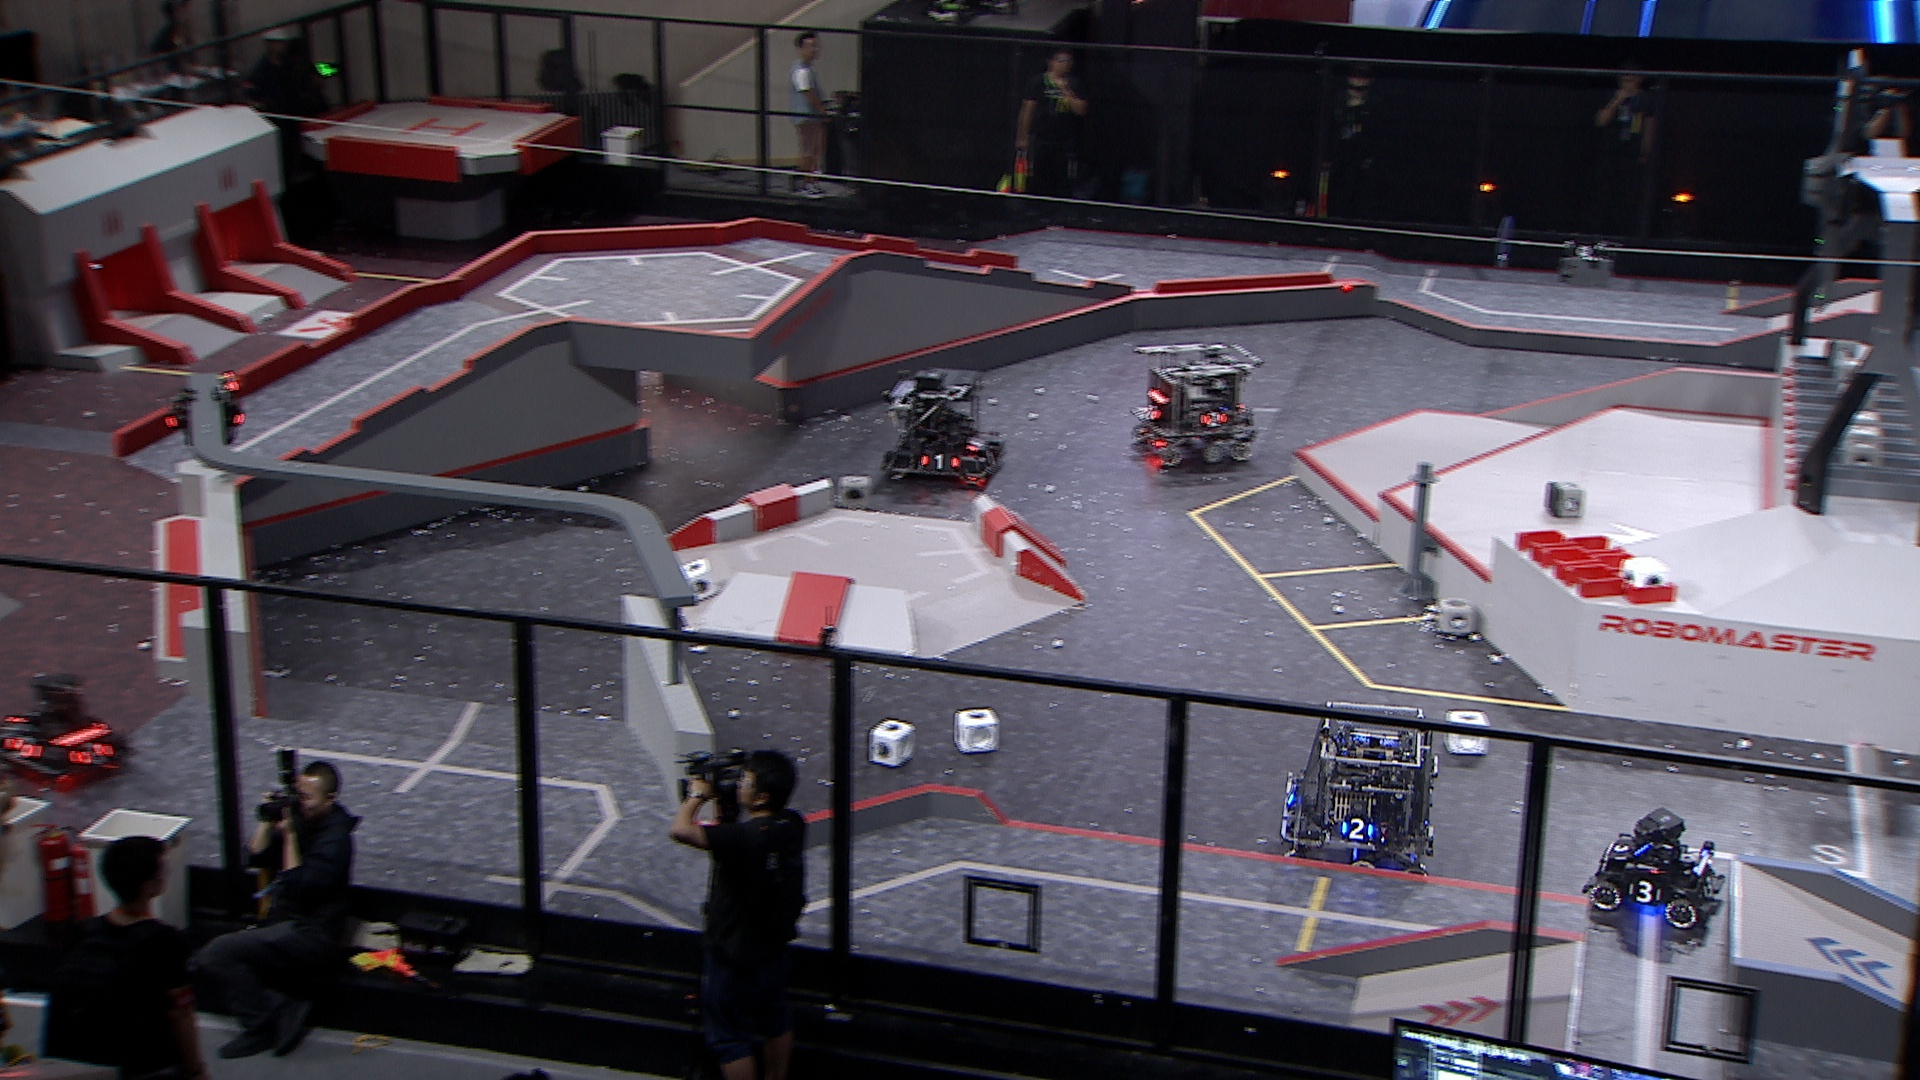armor: (67, 741, 116, 767), (3, 731, 44, 761), (1626, 880, 1665, 909), (1338, 818, 1375, 841), (918, 452, 957, 471), (1611, 840, 1636, 864), (1199, 410, 1228, 429), (981, 448, 1001, 471), (1700, 877, 1718, 899), (963, 436, 984, 454), (1143, 404, 1160, 423)
car: (1280, 698, 1443, 880), (1576, 807, 1730, 931), (1131, 338, 1265, 469), (882, 367, 1006, 489)
watcher: (164, 371, 248, 451)
